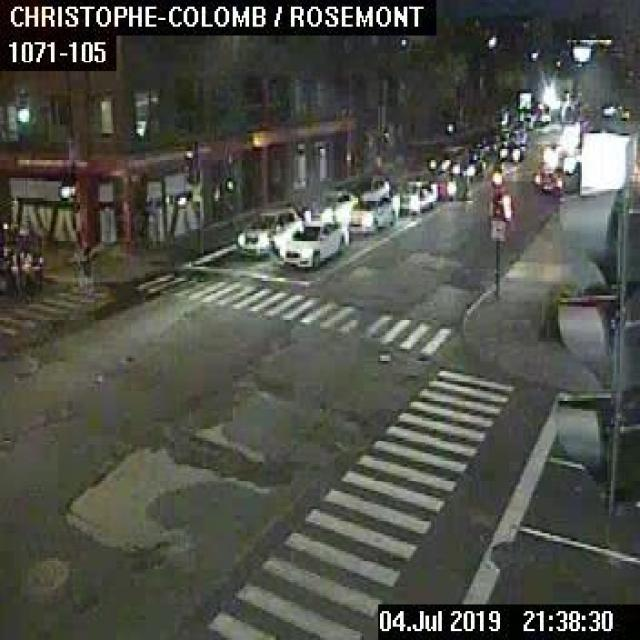vehicle: (237, 207, 299, 256), (281, 219, 343, 267), (347, 194, 395, 232), (301, 188, 356, 221), (398, 178, 436, 214), (531, 166, 563, 193), (356, 174, 389, 198), (438, 171, 466, 198), (452, 156, 484, 178), (496, 140, 525, 160), (427, 152, 452, 170)
